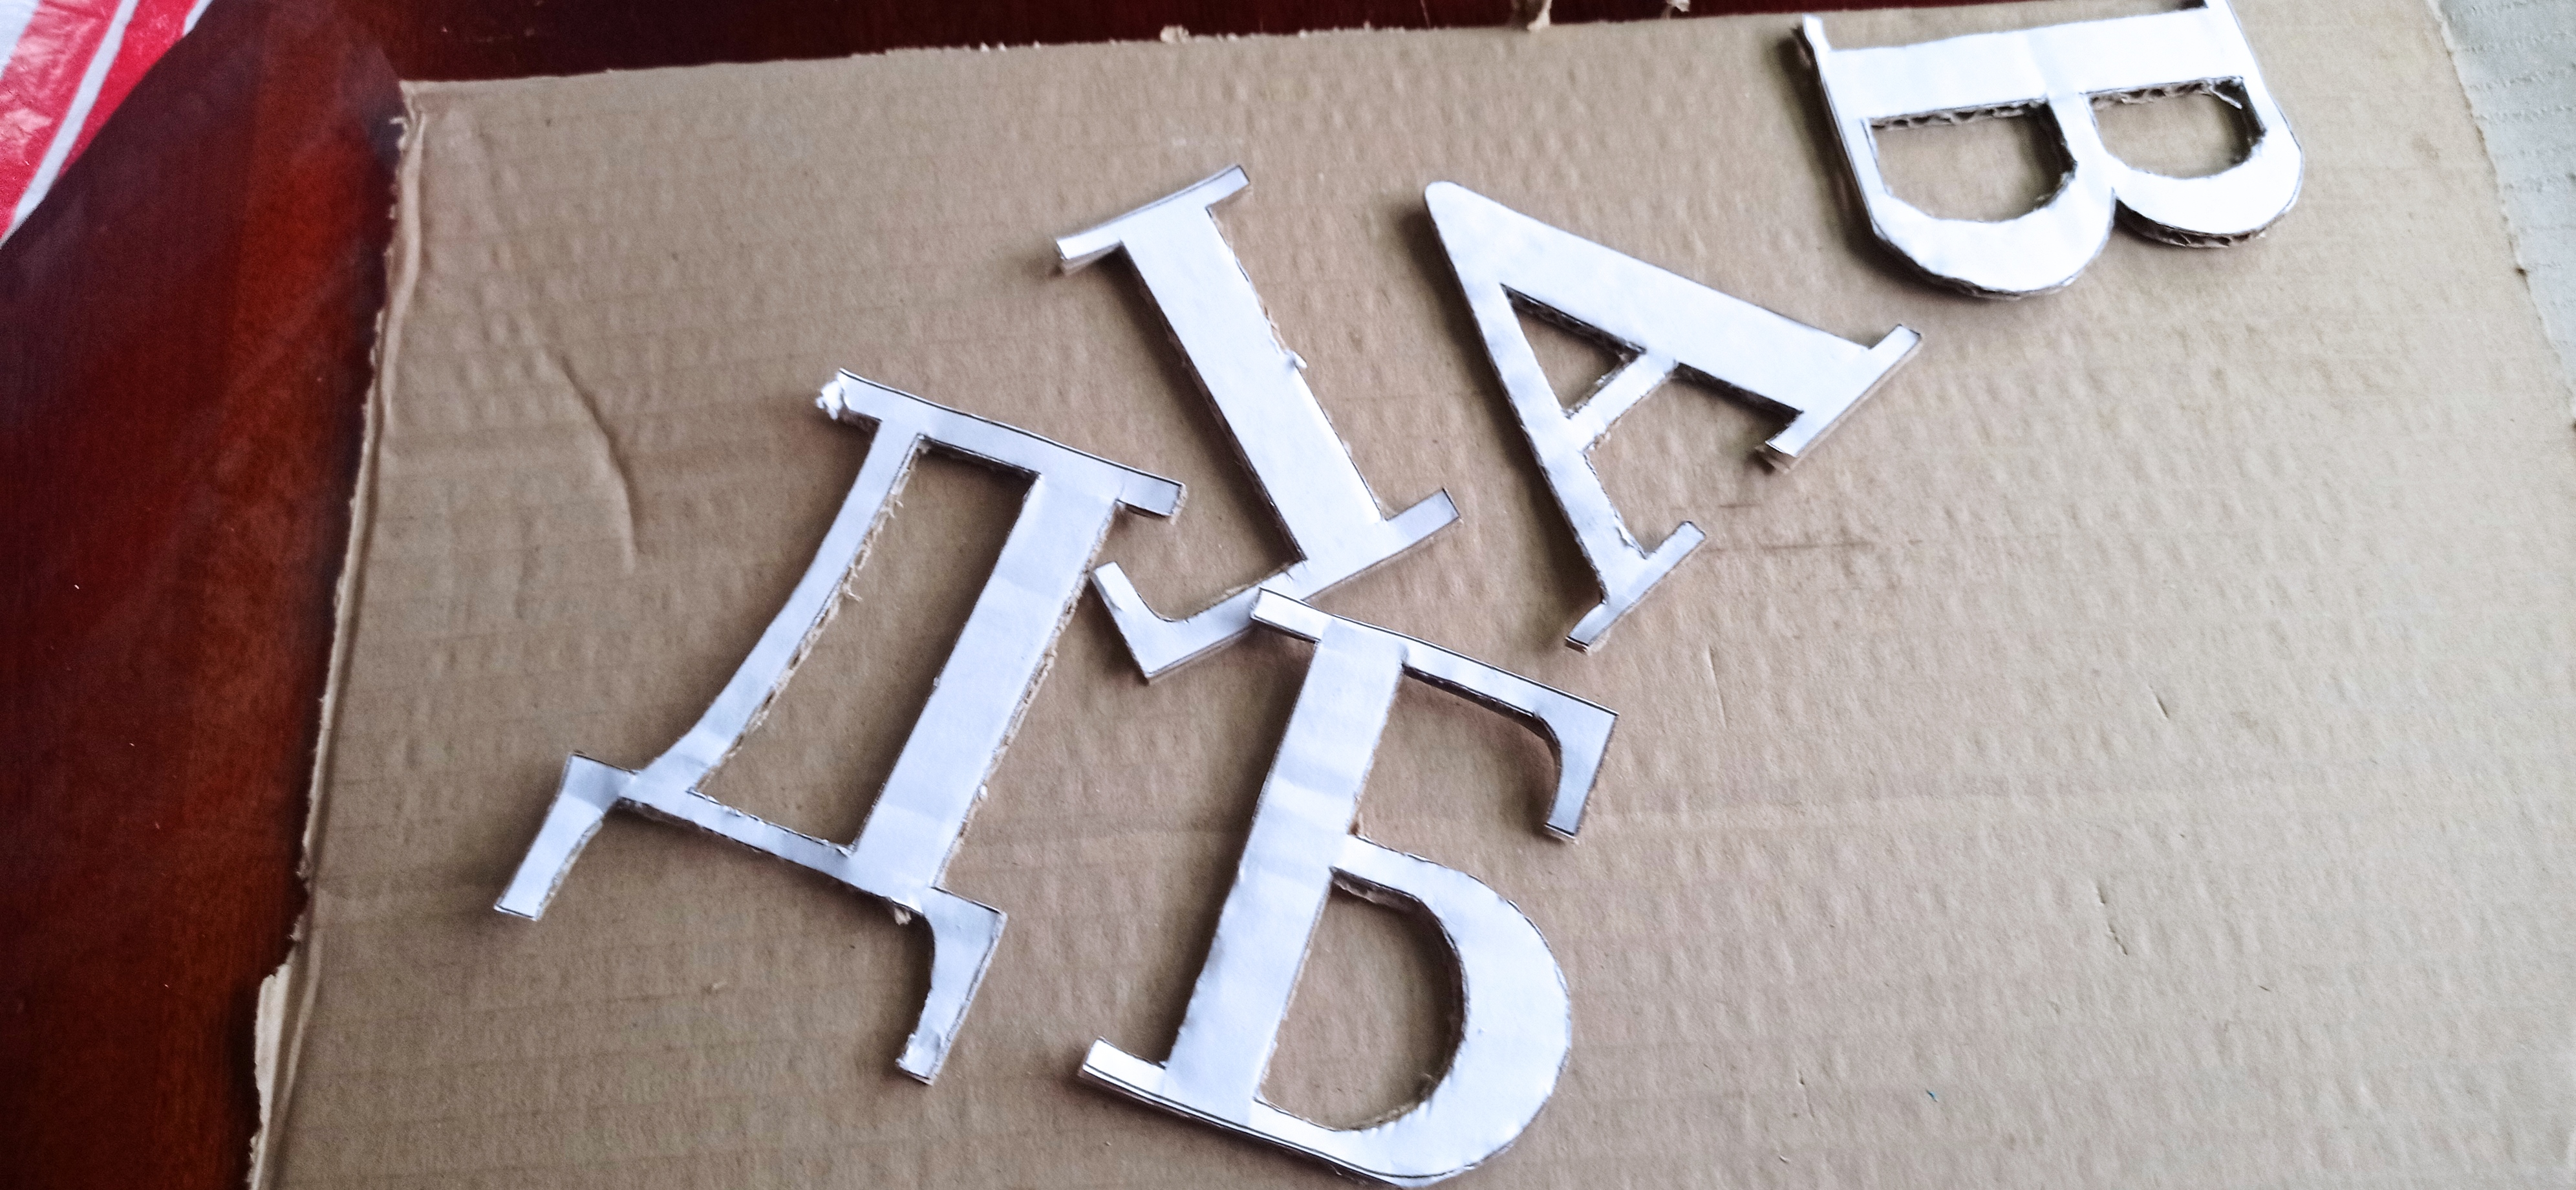a: (1424, 178, 1924, 657)
b: (1078, 585, 1620, 1190)
d: (495, 370, 1186, 1090)
g: (1053, 158, 1464, 689)
v: (1791, 10, 2303, 301)
